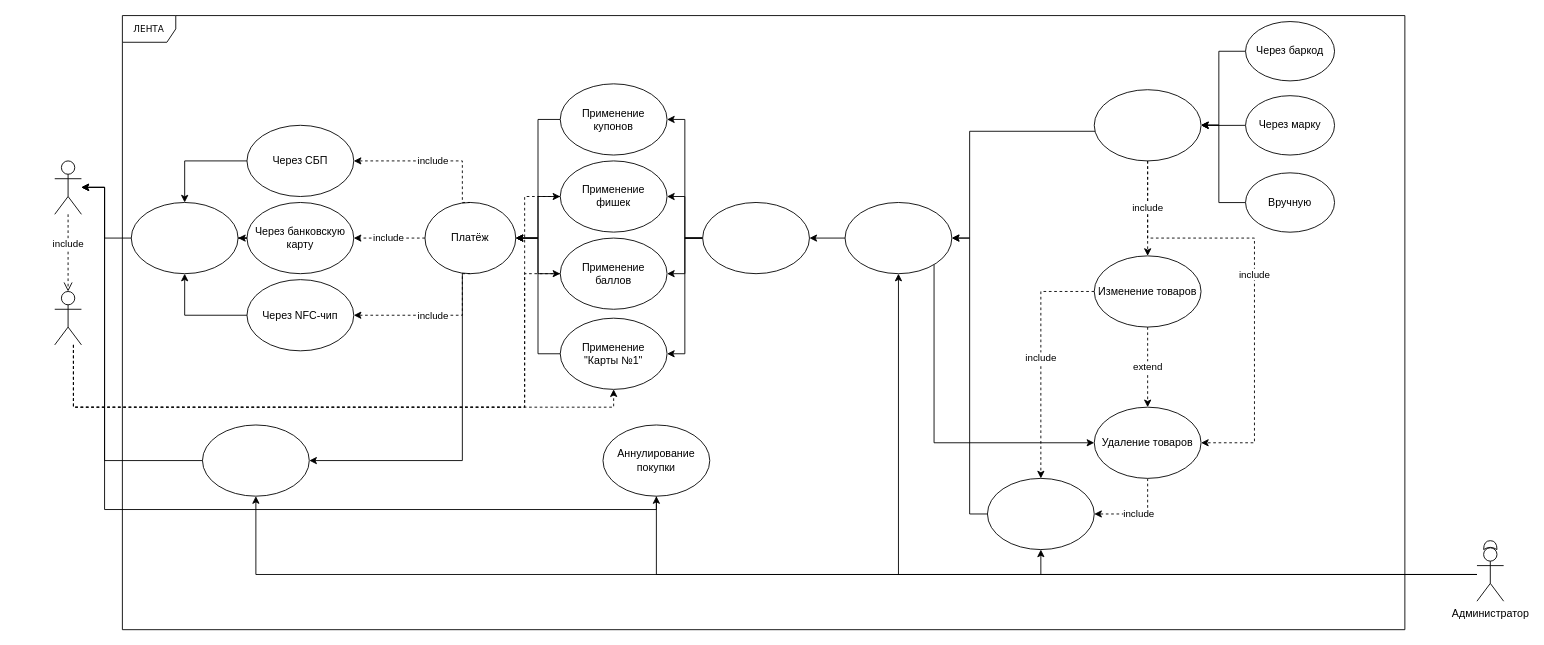
Some shapes in this 1544 by 645 pixel diagram are drawn without their labels. The centre of each missing label's shape, as x and y in pixels:
"Валидация покупателя" goes at point (898, 238).
"Зарегистрированный покупатель" goes at point (67, 318).
"Отмена платежа" goes at point (255, 460).
"Подтверждение действия" goes at point (1040, 513).
"Подтверждение стоимости" goes at point (755, 238).
"Покупатель" goes at point (67, 187).
"Покупка товаров" goes at point (184, 238).
"Сканирование товаров" goes at point (1147, 125).
